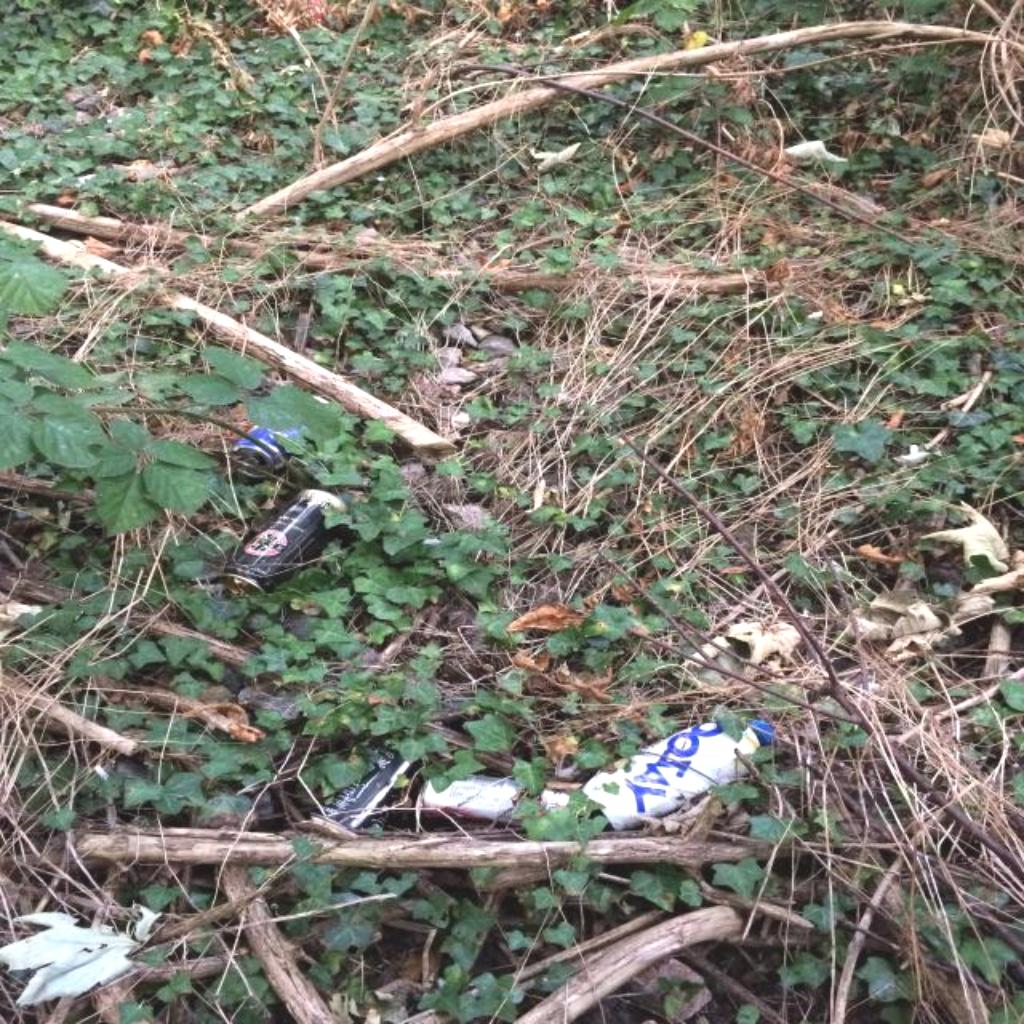garbage: (582, 717, 777, 827), (223, 493, 338, 600), (299, 746, 408, 839), (411, 775, 579, 820), (229, 424, 298, 477)
